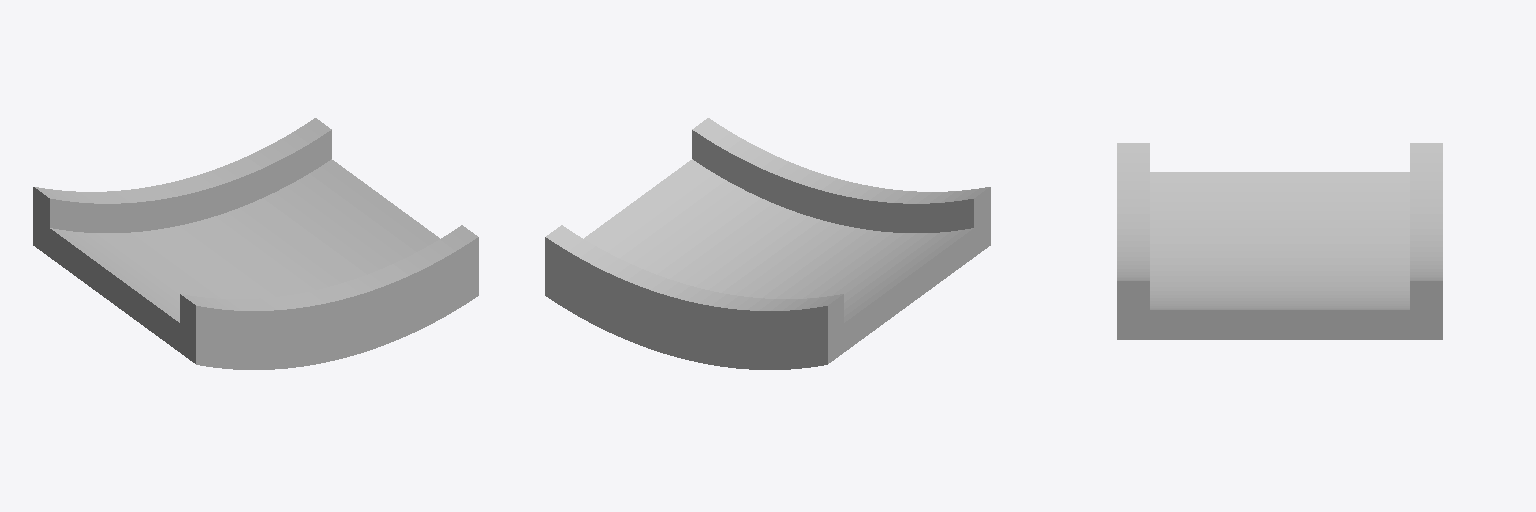
Rendered from mvalley.obj.
3 renders of one model, left to right at view 1: azimuth 30°, elevation 25°; view 2: azimuth 150°, elevation 25°; view 3: azimuth 270°, elevation 25°, orthographic.
Visible parts, largest first — view 1: mvalley; view 2: mvalley; view 3: mvalley.
Boxes of the visible parts, x1=… form: mvalley: x1=33, y1=118, x2=478, y2=369; mvalley: x1=545, y1=118, x2=990, y2=369; mvalley: x1=1117, y1=143, x2=1442, y2=339.
Size of the model in its own units: 10 by 3 by 10.